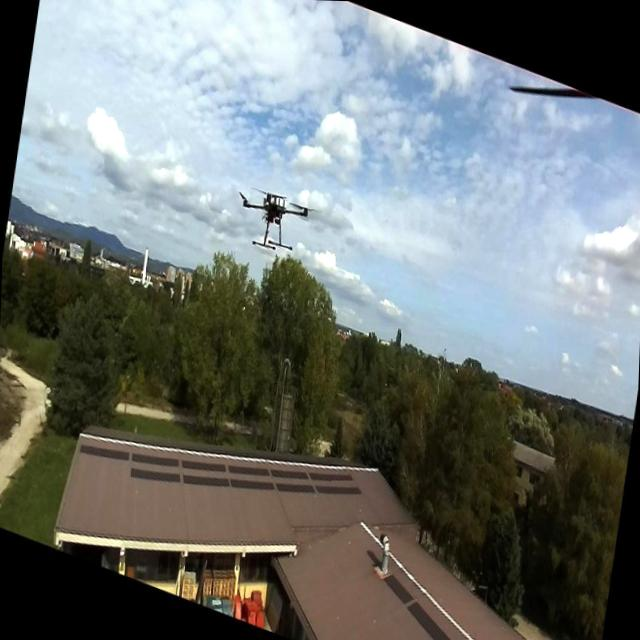drone: (232, 176, 314, 264)
